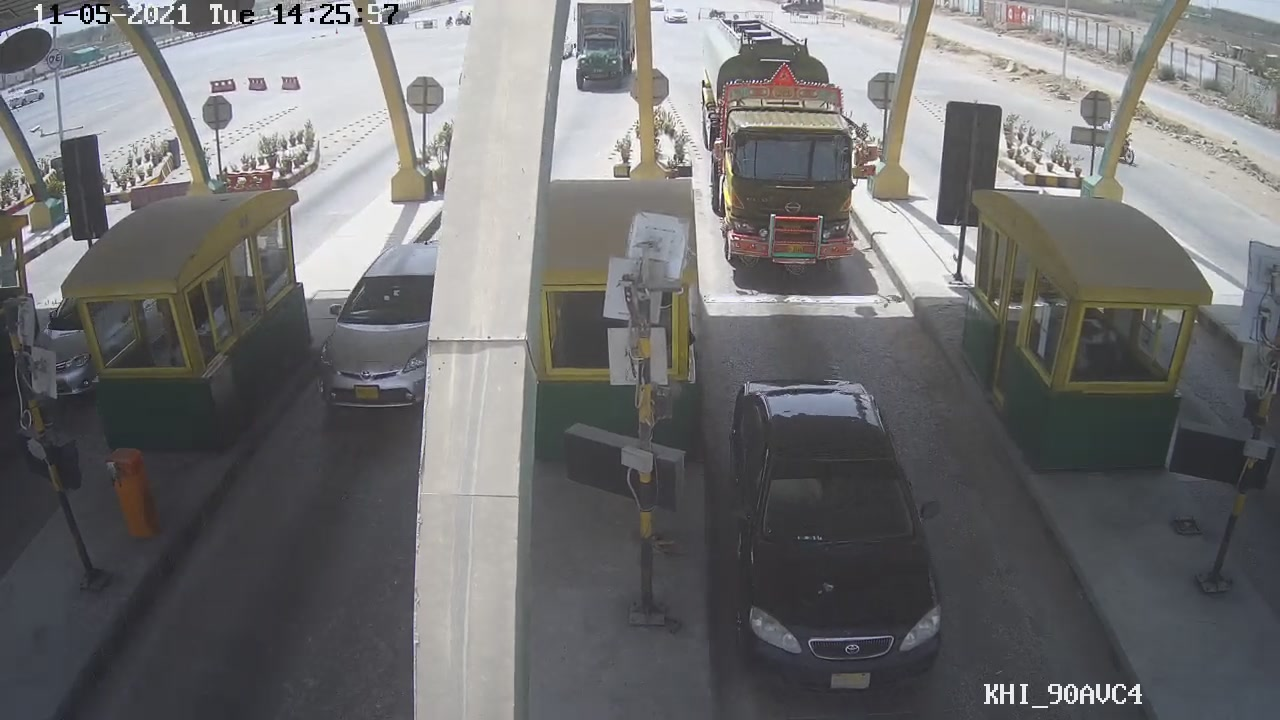F1: (721, 369, 950, 703)
F6: (704, 44, 875, 267)
